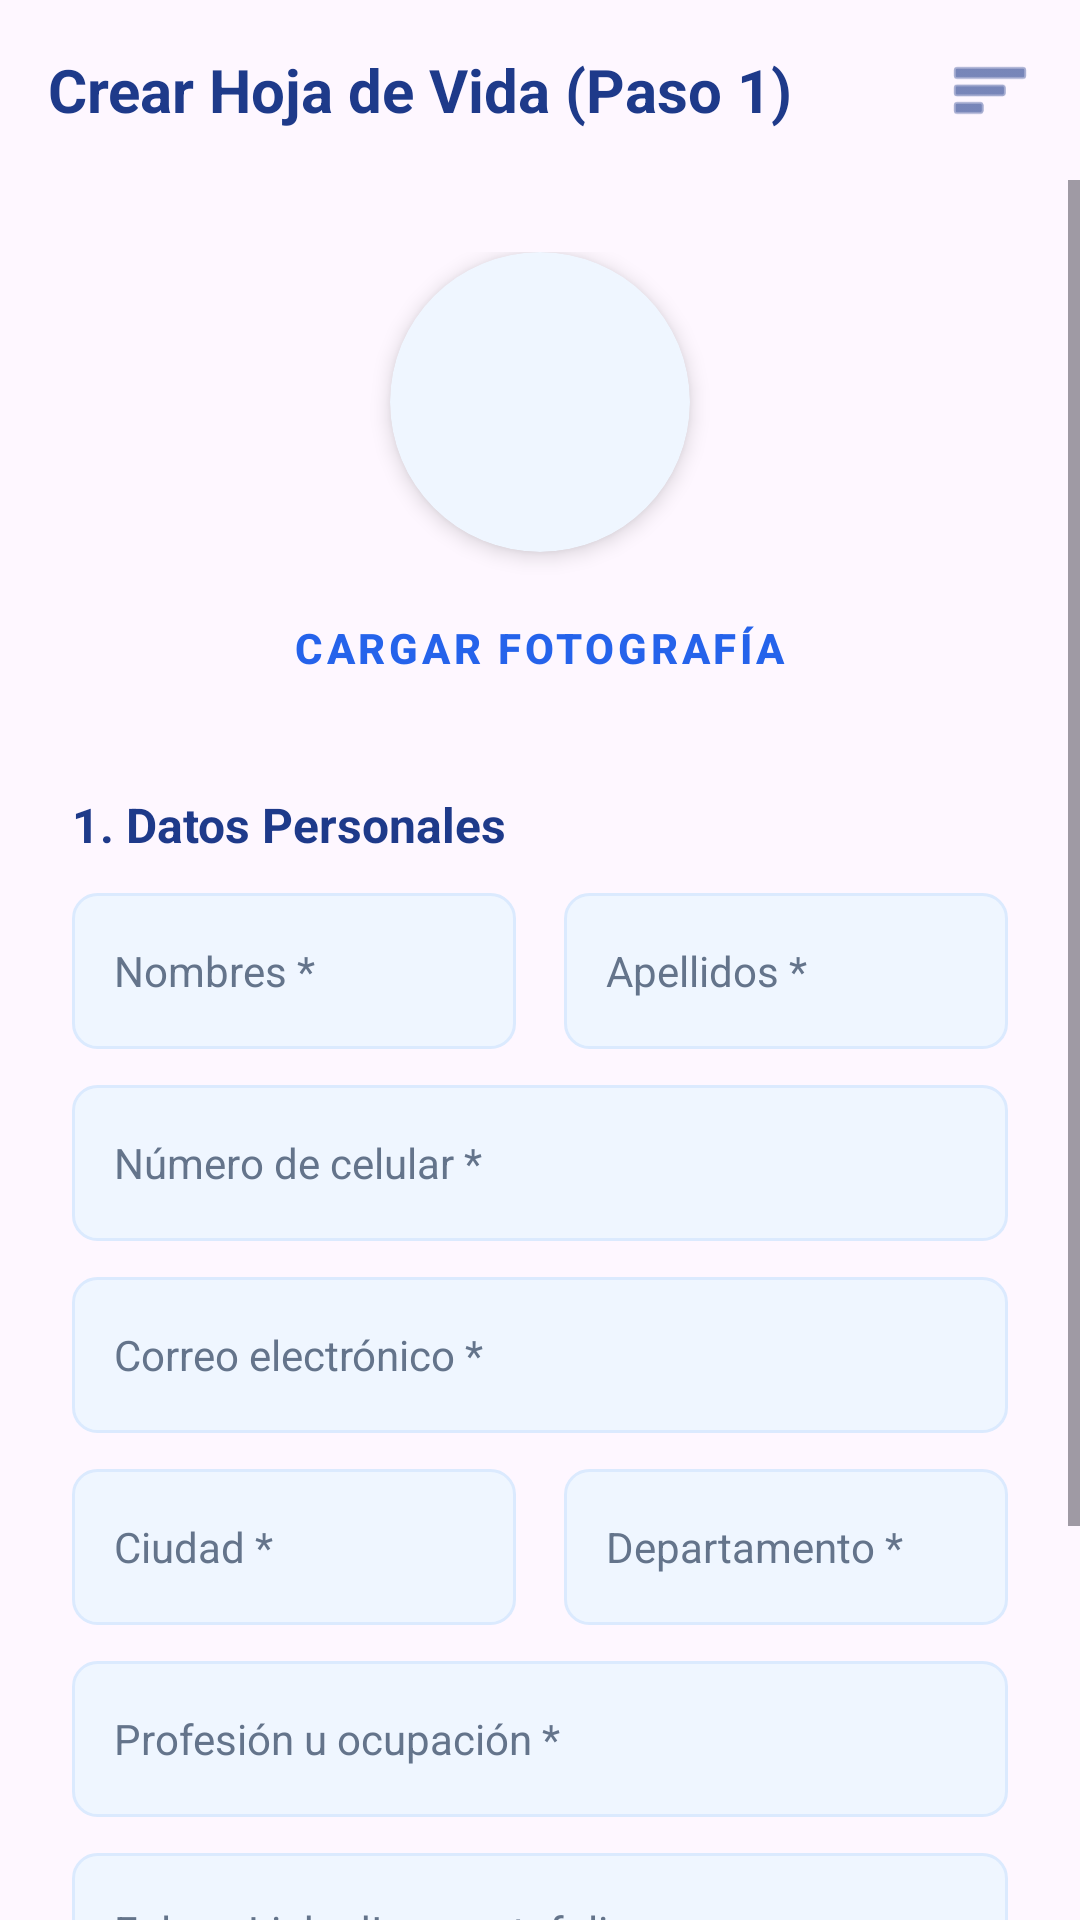

Icons on this 1080 × 1920 Android screen, each with the point to tap as [x,y]:
Menú: [990,90]
